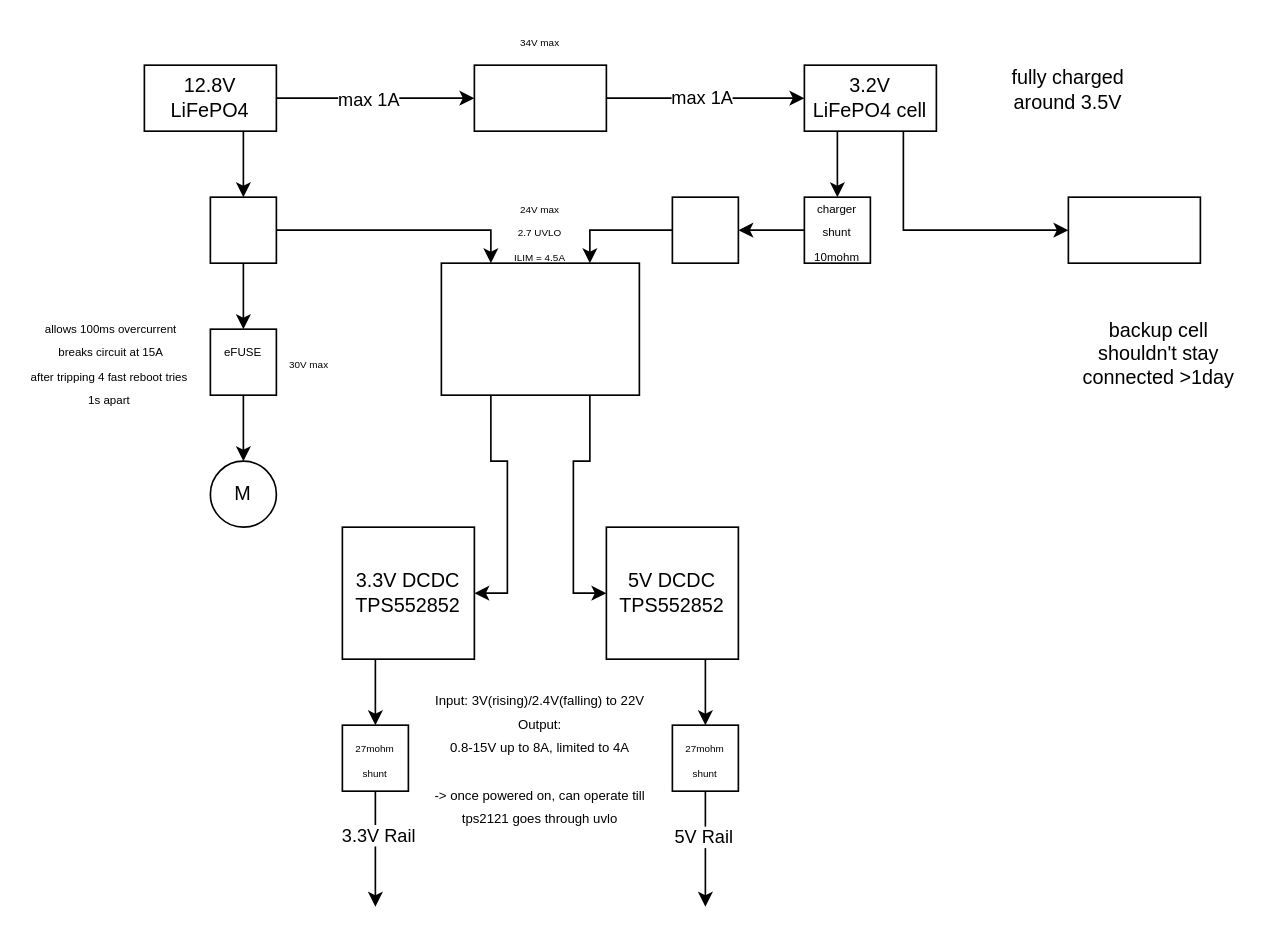
Image size: 1277x949. Some labels were removed from this diagram. The shapes that lost their labels are listed below. From the top down, each one's centre as x and y in pixels, then its label:
pixel 539 97: charger bq25690
pixel 242 229: IN1 SHUNT 8.2mohm
pixel 704 229: BATFET 6.5mohm
pixel 1133 229: LEDs V-dividers
pixel 539 328: Power MUX TPS2121
